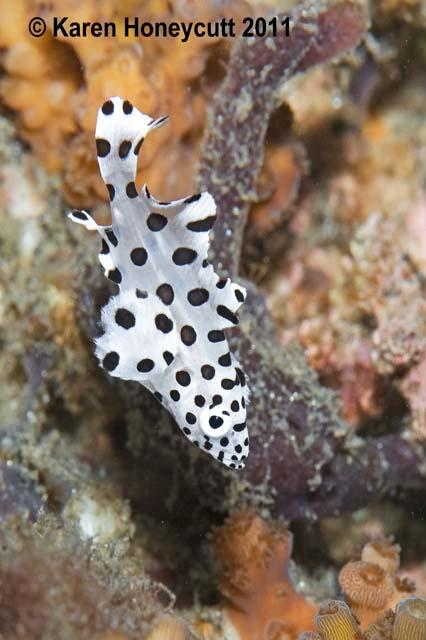Mulut: (200, 441, 270, 482)
Sirip Anal: (62, 208, 134, 288)
Sirip Dada: (89, 277, 185, 397)
Sirip Ekor: (72, 75, 182, 188)
Sirip Punggung: (134, 166, 264, 377)
